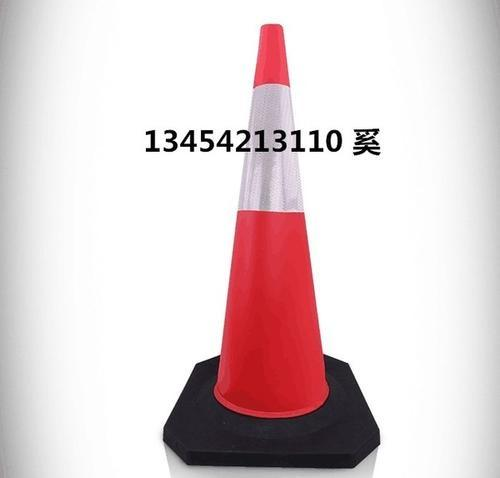cone_barrel: (193, 38, 342, 428)
